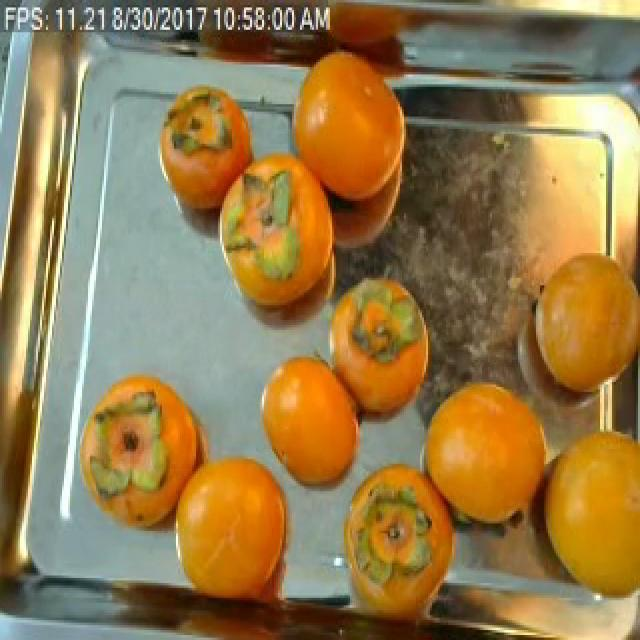Fruit: (156, 432, 324, 628), (326, 446, 474, 640), (76, 360, 214, 516), (246, 340, 374, 508), (148, 72, 268, 248)
